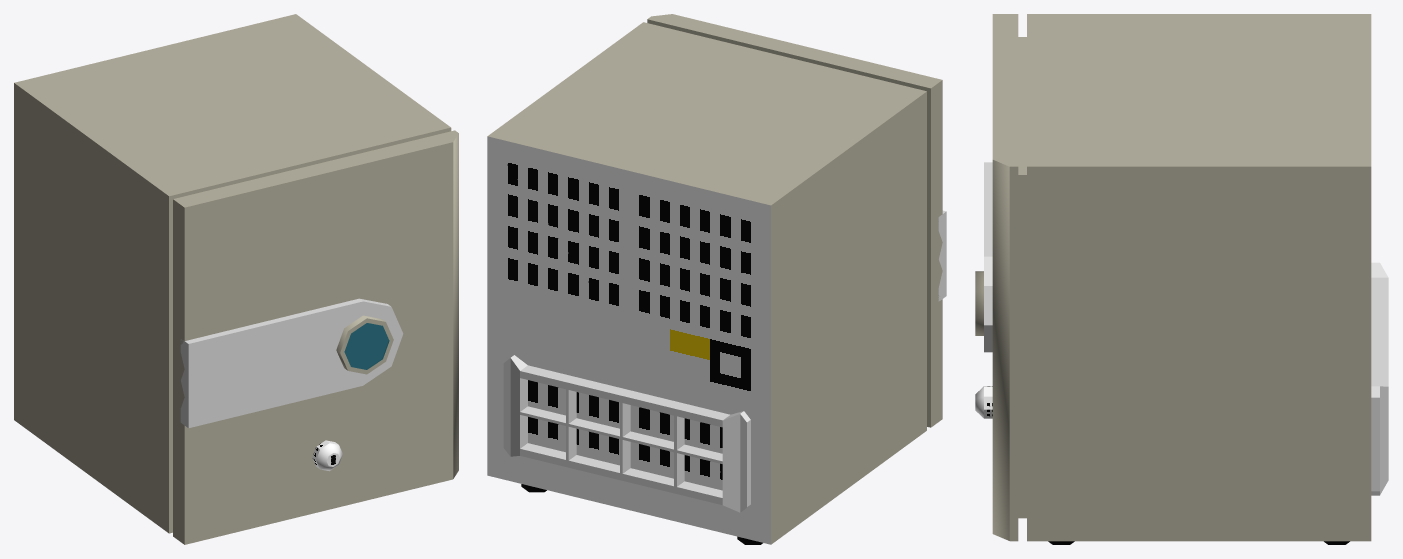
The model's file is inqbator.fbx.
The picture shows the model from 3 angles, left to right: view 1: azimuth 30°, elevation 25°; view 2: azimuth 150°, elevation 25°; view 3: azimuth 270°, elevation 25°; orthographic projection. The views are drawn at different scales.
Parts seen in each view (by area): view 1: main, door, Cylinder, icon; view 2: main, Cube, door, Cylinder; view 3: main, door, Cube, Cylinder, icon.
Boxes of the visible parts, bbox=[...] form: main: bbox=[14, 14, 451, 533]; door: bbox=[173, 130, 458, 544]; Cylinder: bbox=[180, 298, 403, 428]; icon: bbox=[336, 315, 393, 374]; main: bbox=[487, 22, 926, 544]; Cube: bbox=[503, 355, 750, 512]; door: bbox=[647, 14, 942, 427]; Cylinder: bbox=[938, 210, 946, 301]; main: bbox=[1027, 14, 1371, 544]; door: bbox=[975, 14, 1026, 541]; Cube: bbox=[1371, 262, 1388, 495]; Cylinder: bbox=[984, 162, 992, 352]; icon: bbox=[975, 271, 983, 335].
Size of the model in its own units: 42 by 50 by 48.
4 materials, 1 textured.
